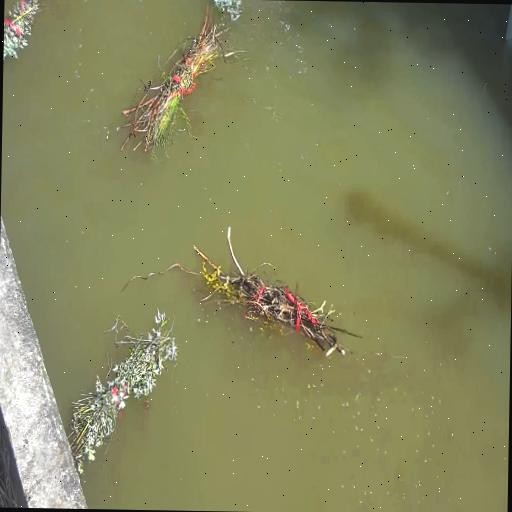twig: (194, 228, 362, 354), (68, 308, 178, 474), (121, 6, 239, 157), (4, 0, 39, 59), (214, 0, 243, 20)
